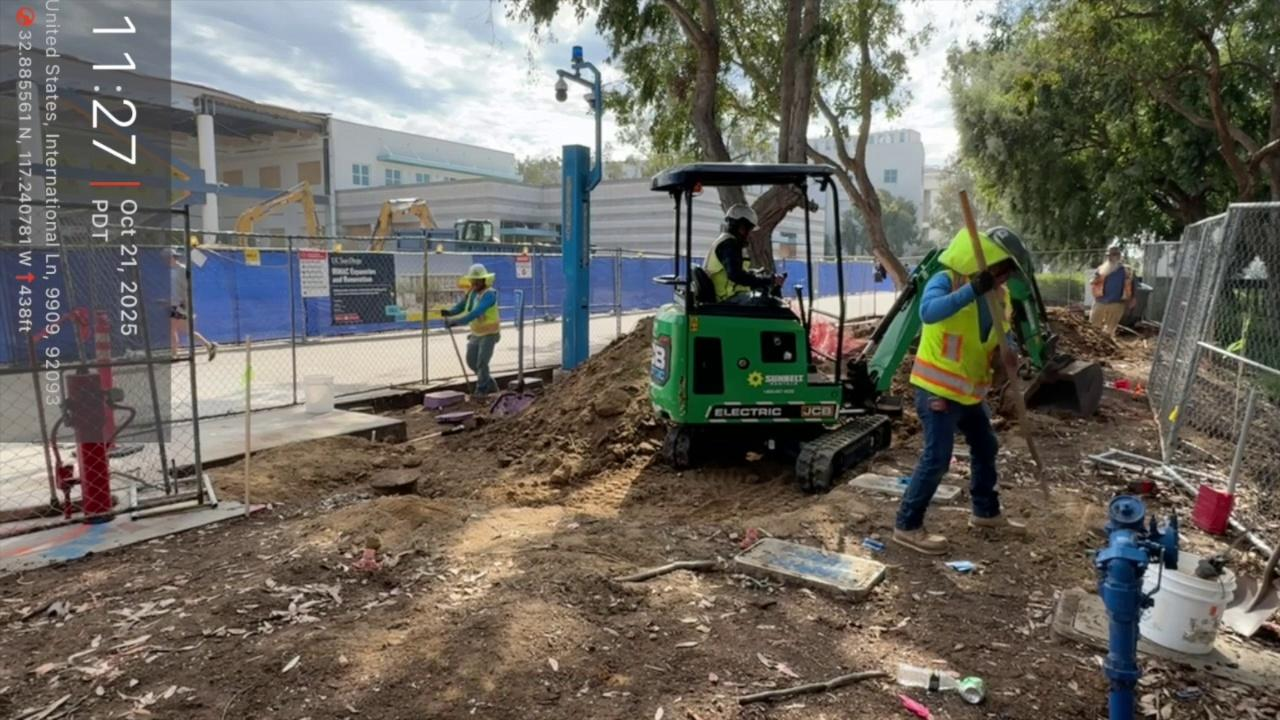Exacavator: (616, 119, 1143, 488)
